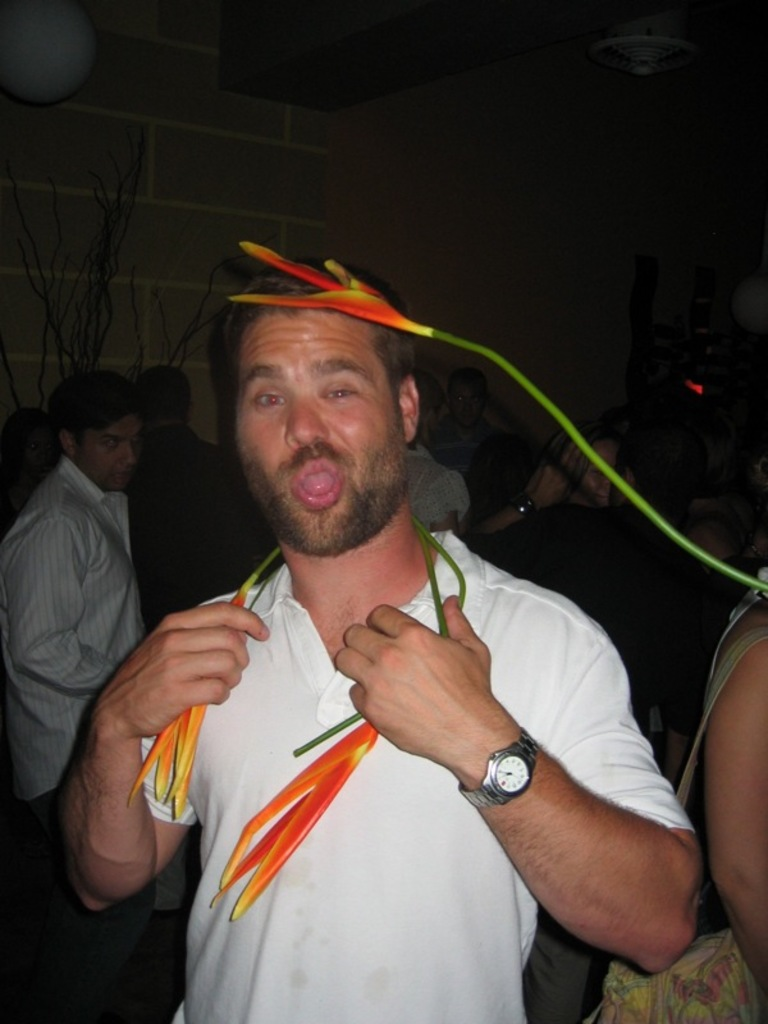face: (82, 401, 141, 491)
